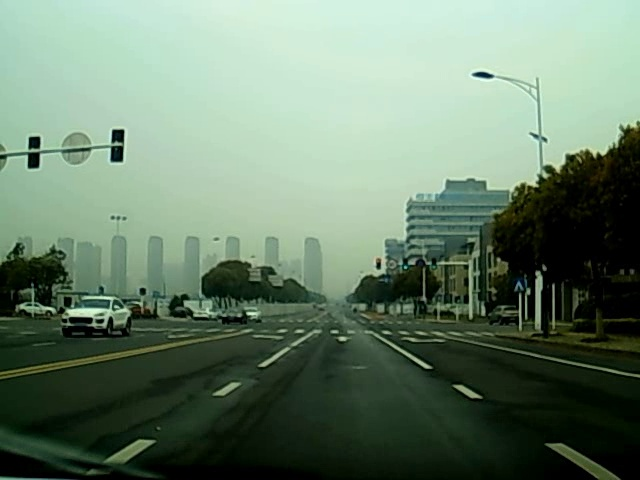Traffic_Light_go: (427, 256, 438, 273), (401, 257, 409, 277)
